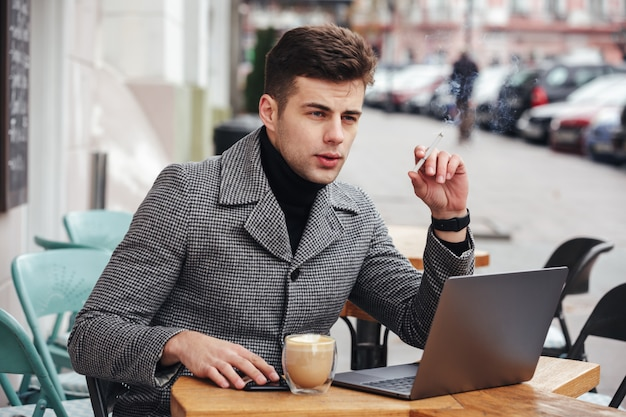cigarette: (412, 131, 443, 175)
